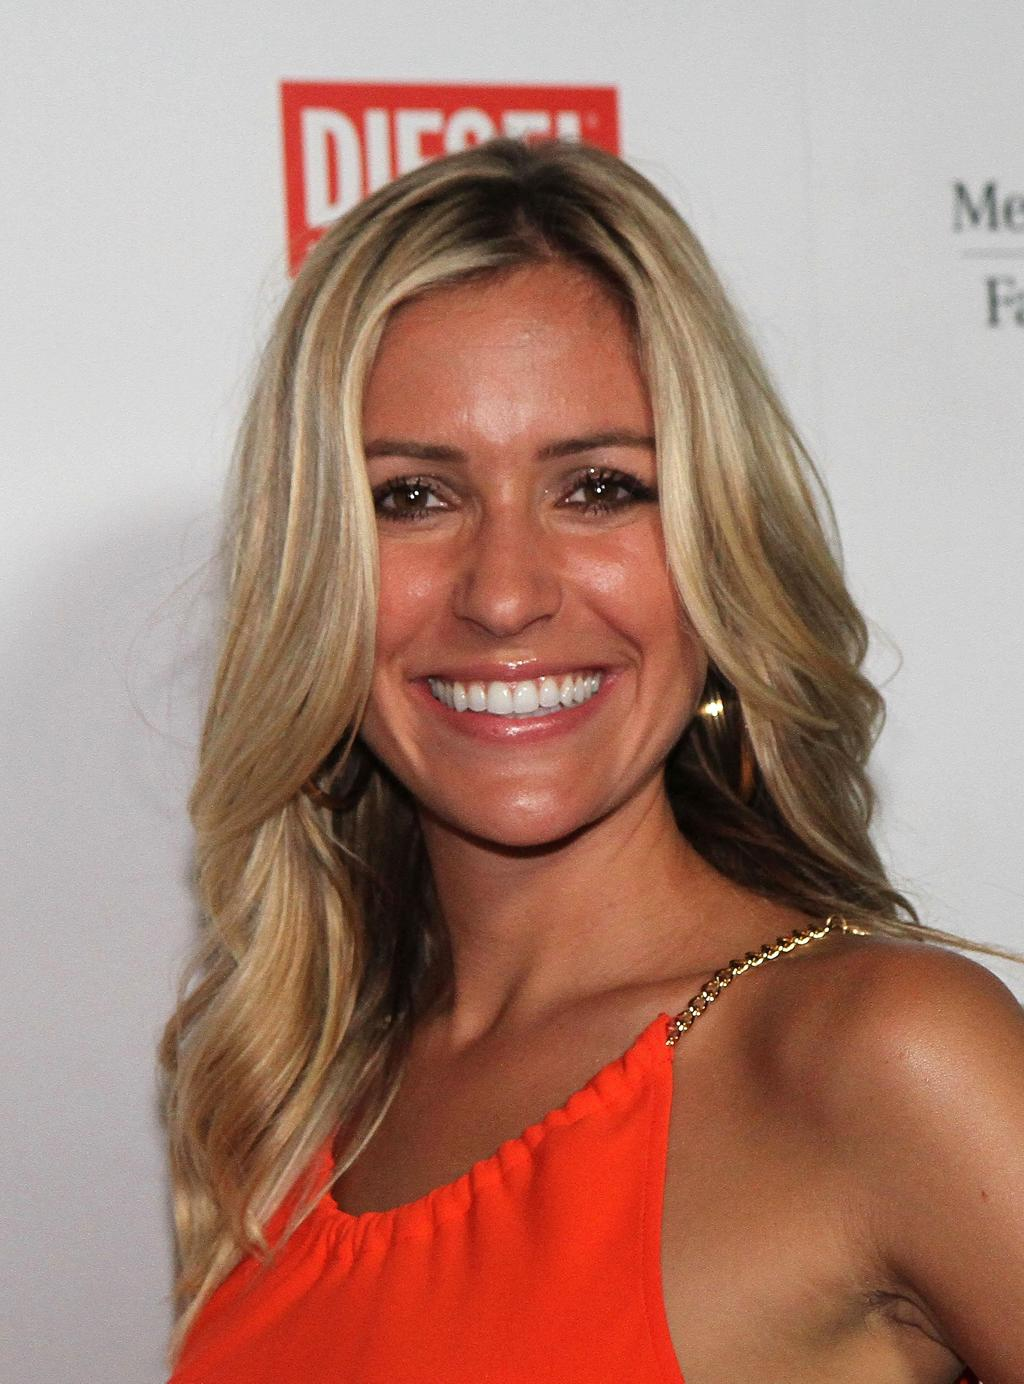face: (316, 240, 716, 848)
